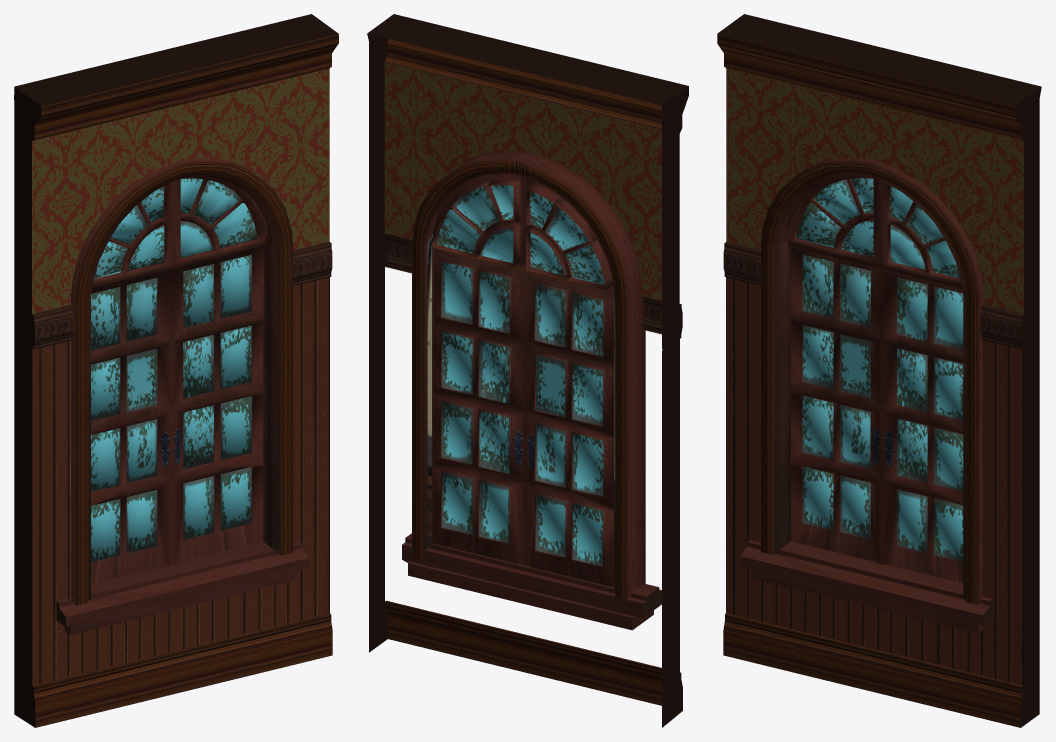
The model's file is Wall2TALLWindow.fbx.
3 renders of one model, left to right at view 1: azimuth 30°, elevation 25°; view 2: azimuth 150°, elevation 25°; view 3: azimuth 330°, elevation 25°, orthographic.
Visible parts, largest first — view 1: WallSection2Round_topwindow; view 2: WallSection2Round_topwindow; view 3: WallSection2Round_topwindow.
Boxes of the visible parts, x1,y1,x2,y2 form: WallSection2Round_topwindow: [14, 14, 338, 727]; WallSection2Round_topwindow: [367, 14, 688, 727]; WallSection2Round_topwindow: [717, 14, 1041, 727].
Bounding box in the file's own units: 185 × 372 × 30.
